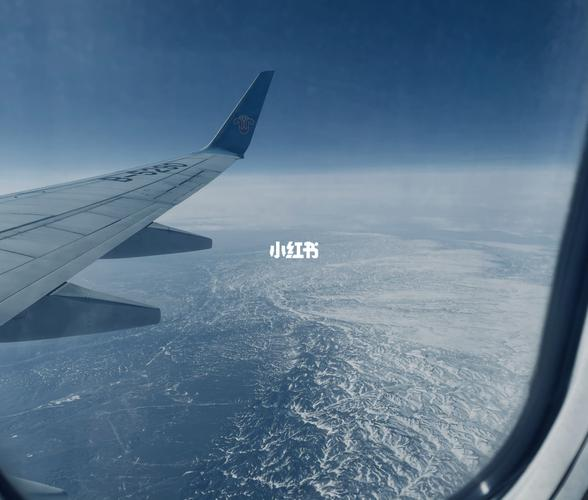buildings: (31, 82, 292, 287)
mountain: (27, 264, 504, 483)
sea_river: (61, 263, 497, 486)
